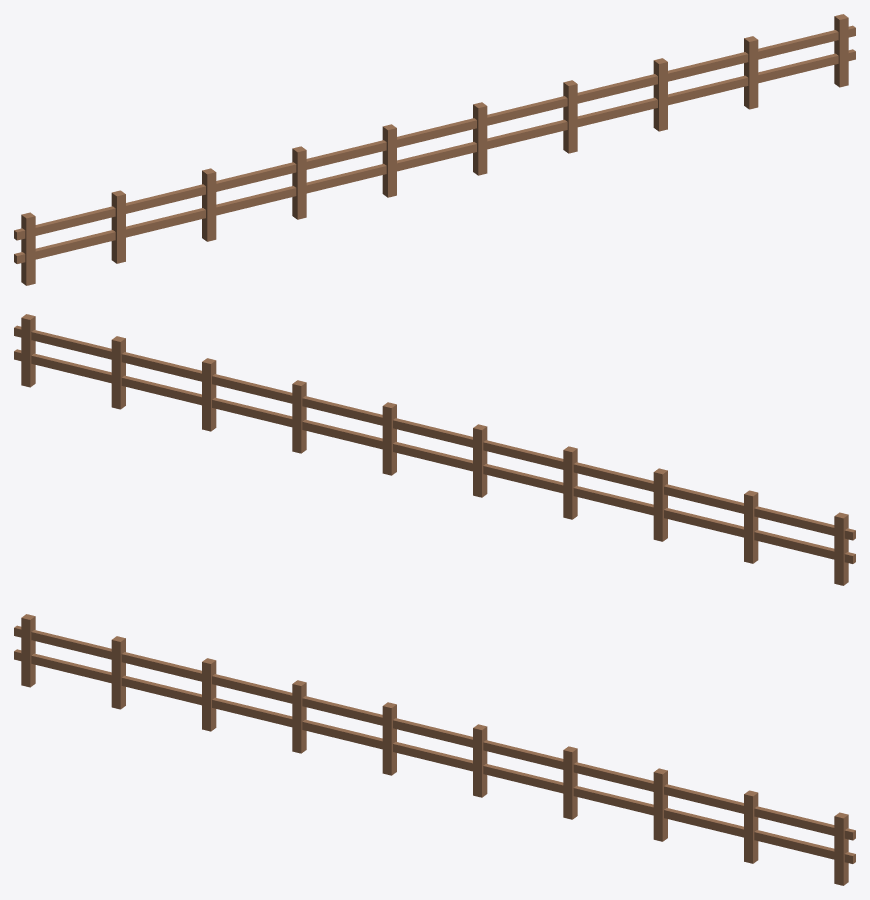
File: fence.glb
3 renders of one model, top to bottom at view 1: azimuth 30°, elevation 25°; view 2: azimuth 150°, elevation 25°; view 3: azimuth 330°, elevation 25°, orthographic.
Visible parts, largest first — view 1: Rail0; view 2: Rail0; view 3: Rail0.
Boxes of the visible parts, x1,y1,x2,y2 form: Rail0: (14,14,855,285); Rail0: (14,314,855,585); Rail0: (14,614,855,885).
Size of the model in its own units: 13 by 1 by 0.14.
